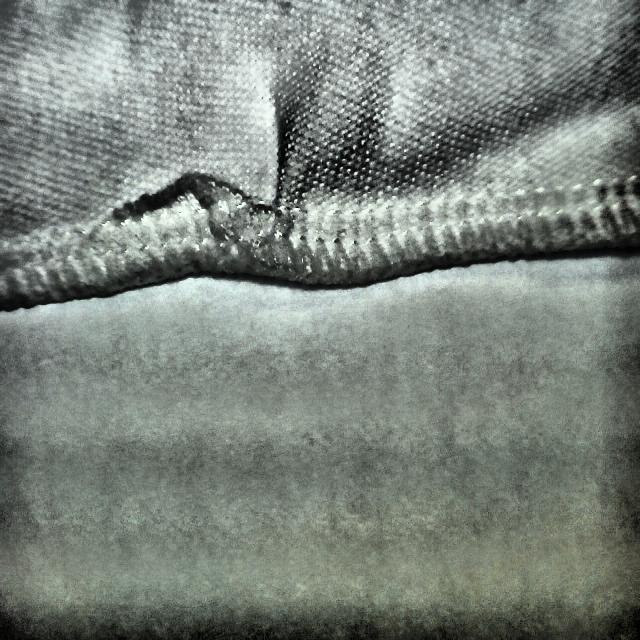gray stitch: (114, 100, 326, 283)
